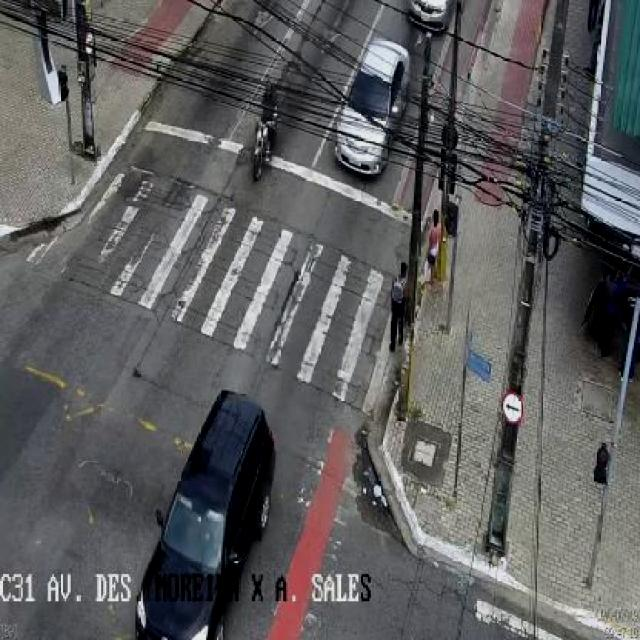Car: (139, 374, 279, 640), (333, 15, 423, 192), (410, 0, 454, 22)
Cycle: (233, 71, 291, 199)
